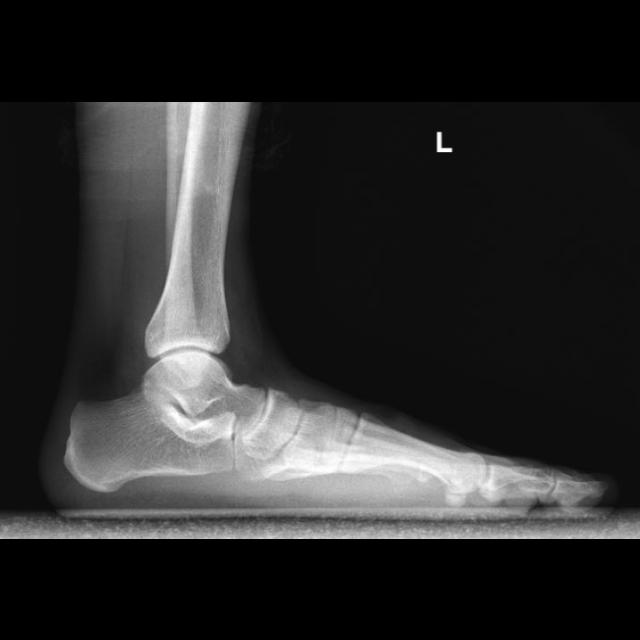a: (62, 385, 235, 494)
b: (244, 388, 302, 461)
c: (344, 412, 485, 493)
